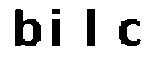b: (9, 6, 42, 50)
c: (112, 9, 144, 52)
i: (48, 5, 71, 50)
l: (83, 3, 102, 54)
